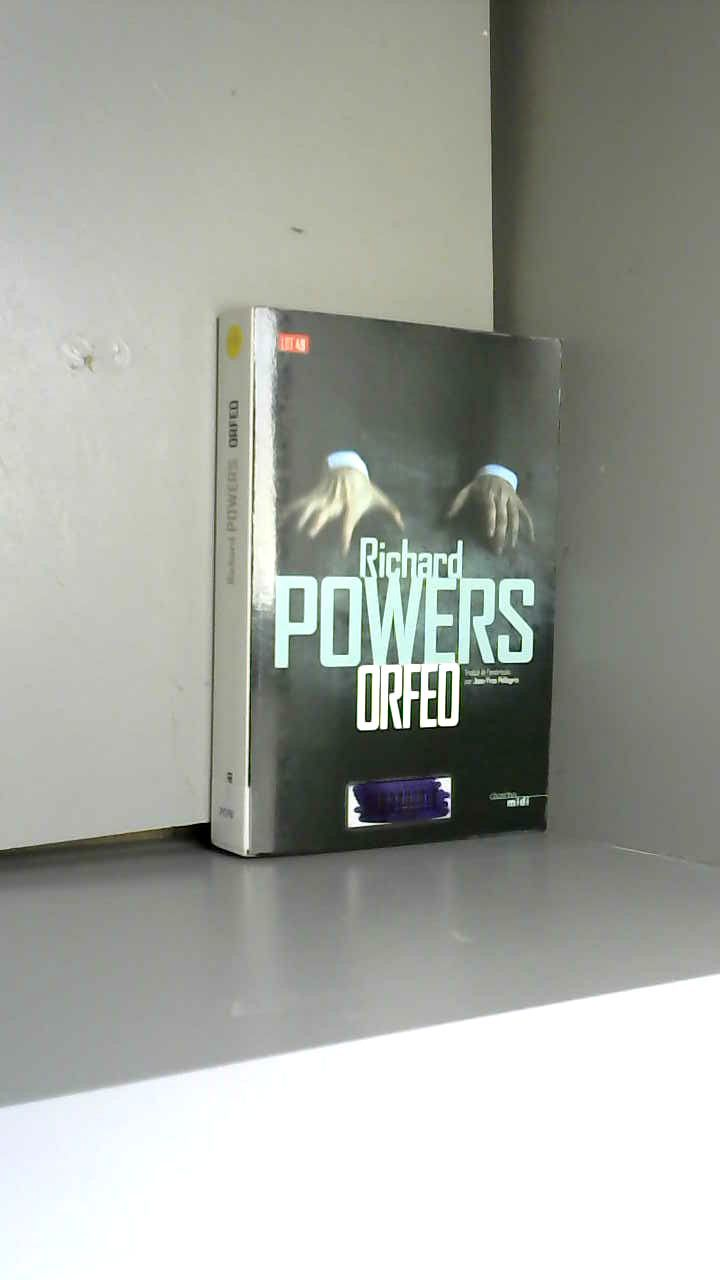book: (170, 270, 609, 908)
